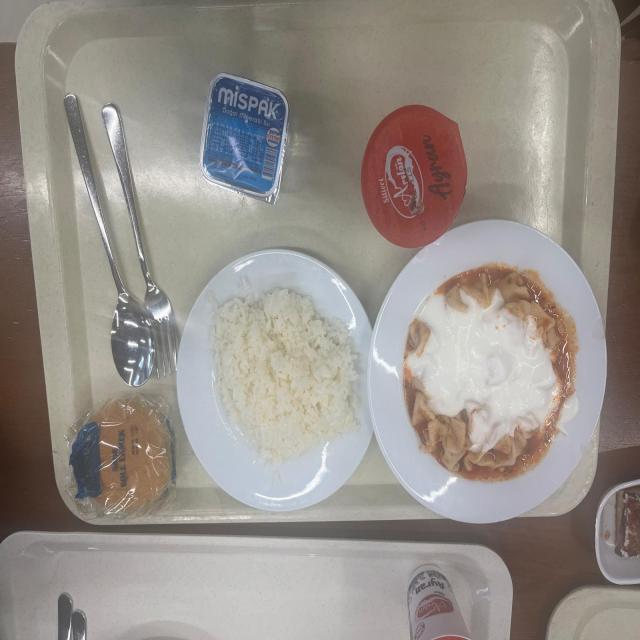ana_yemek: (370, 222, 608, 524), (176, 250, 360, 510)
yan_yemek: (595, 478, 639, 586)
